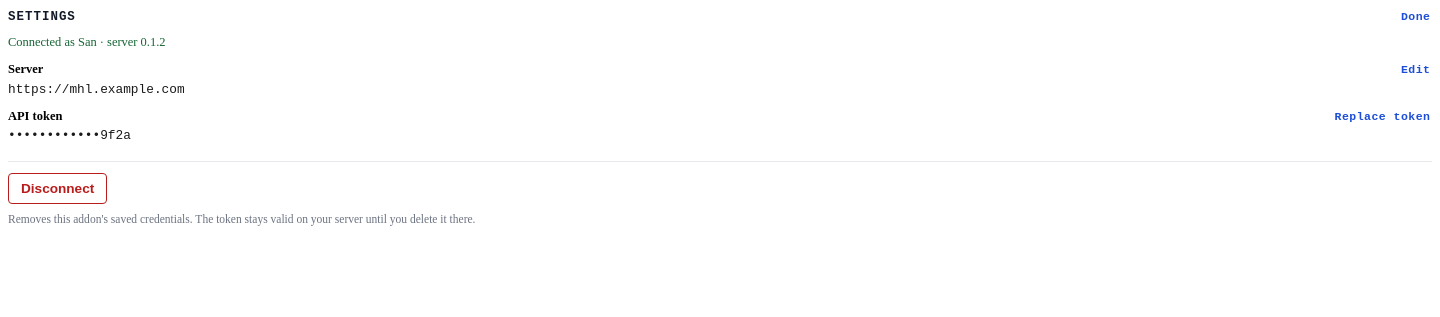
it: SettingsPanel › Edit reveals the URL input; Replace token reveals a password field
The image size is (1440, 317).
Click the button with class "linkbtn" showing "Edit": (1416, 70) [1399,62,1432,78]
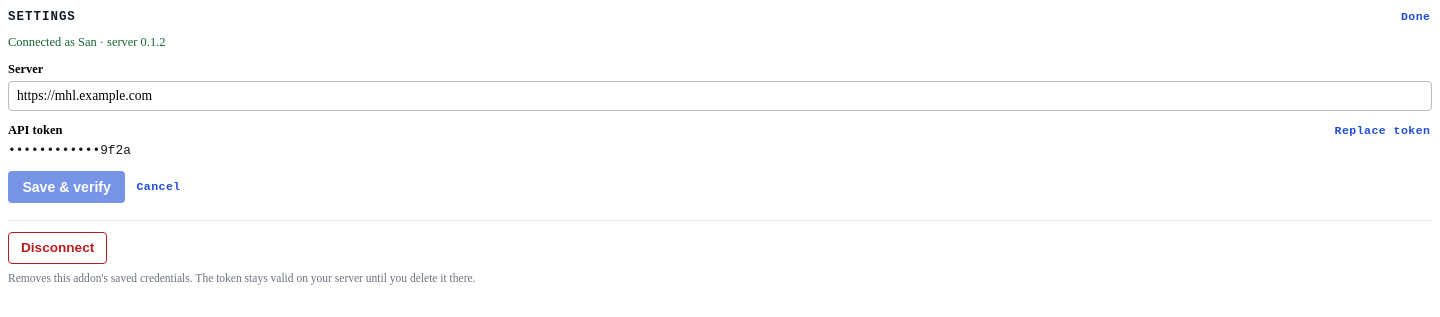
Result: the field is shown at [8,81,1432,111]
Click the button with class "linkbtn" showing "Replace token": (1382, 131) [1333,122,1432,139]
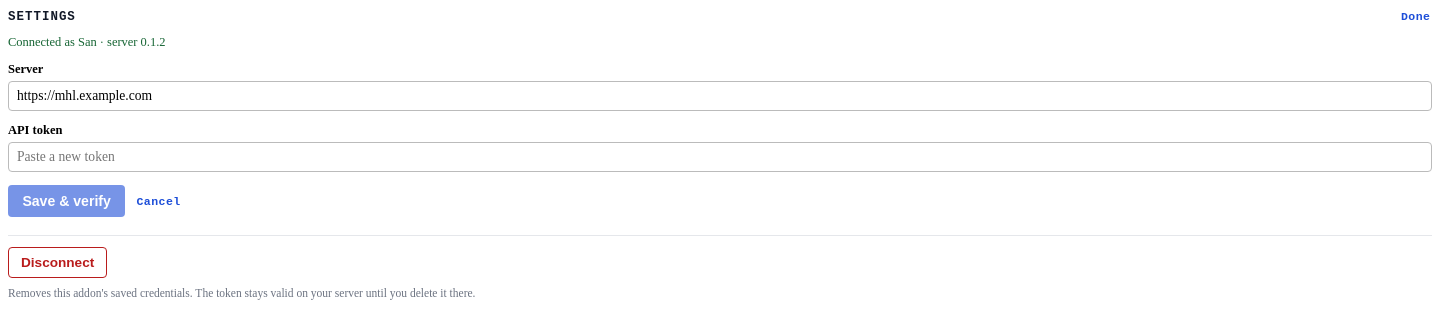
Result: the password field with placeholder "Paste a new token" is shown at [8,142,1432,172]
